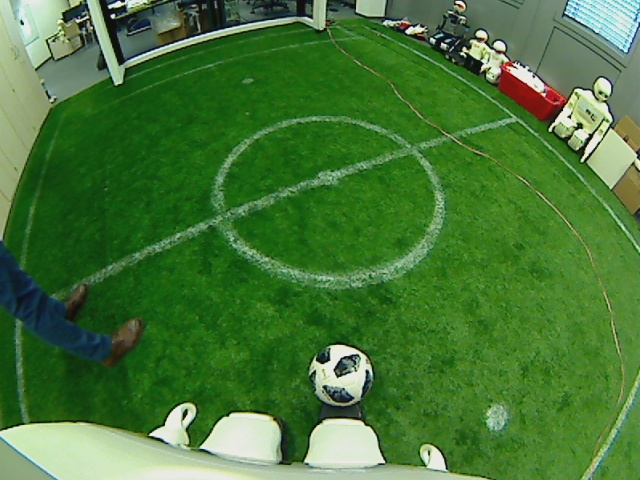ball: (307, 343, 374, 409)
